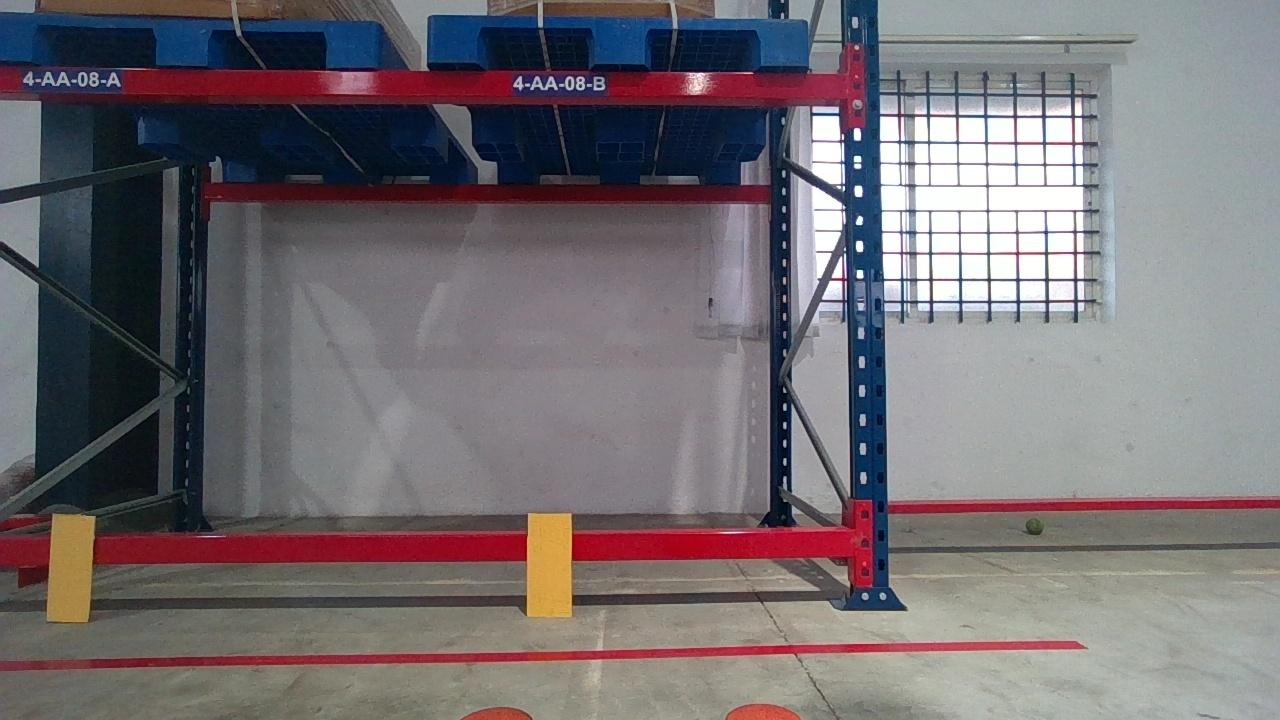h_rack: (2, 65, 844, 99), (0, 531, 854, 564)
orange_strip: (48, 514, 96, 621), (526, 512, 573, 617)
red_line: (20, 637, 1087, 669)
small_pallet: (0, 14, 382, 66), (424, 15, 809, 65)
